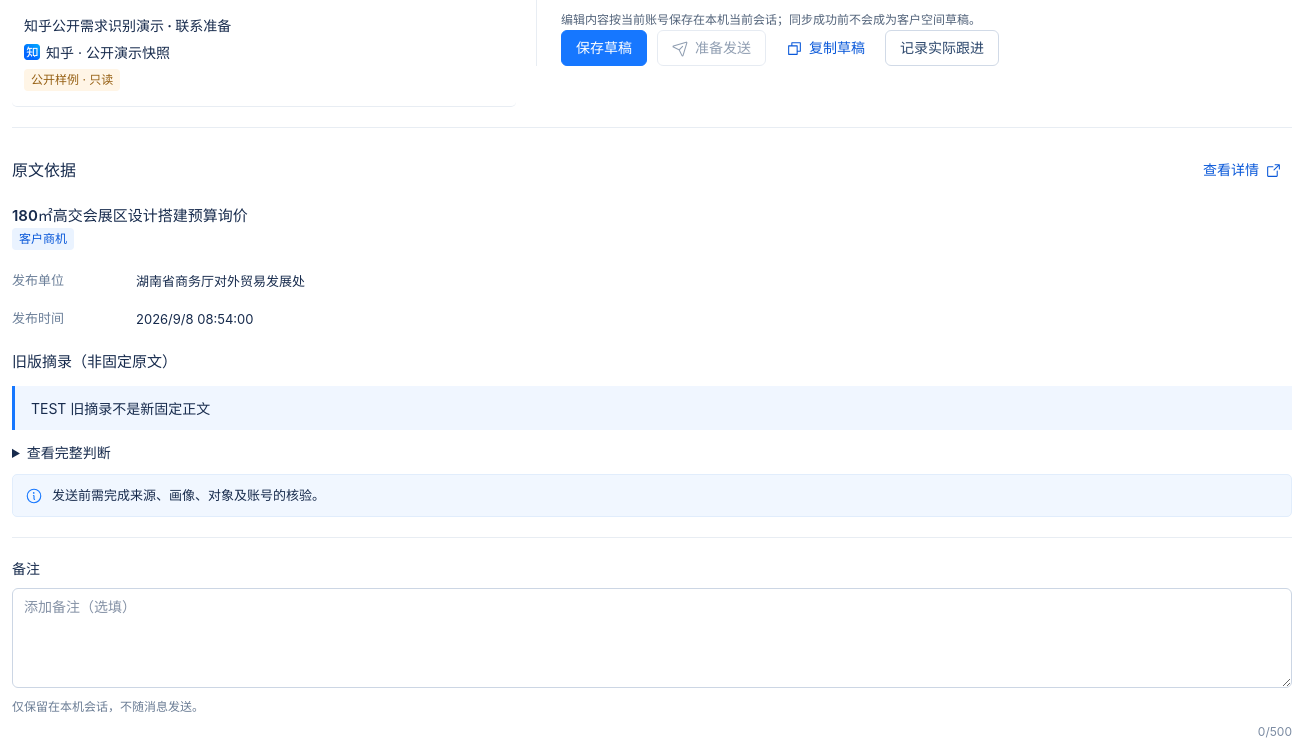
Test case: contact preparation and confirmation › labels the legacy excerpt beside the fixed snapshot without changing sending authority
The width and height of the screenshot is (1304, 742).
(page scrolled)
Expected: the text "TEST 旧摘录不是新固定正文" is shown, [12, 386, 1292, 430]
Expected: the heading "旧版摘录（非固定原文）" is shown, [12, 352, 177, 371]
Click the heading "查看完整判断" at (69, 453), box [27, 444, 111, 461]
(page scrolled)
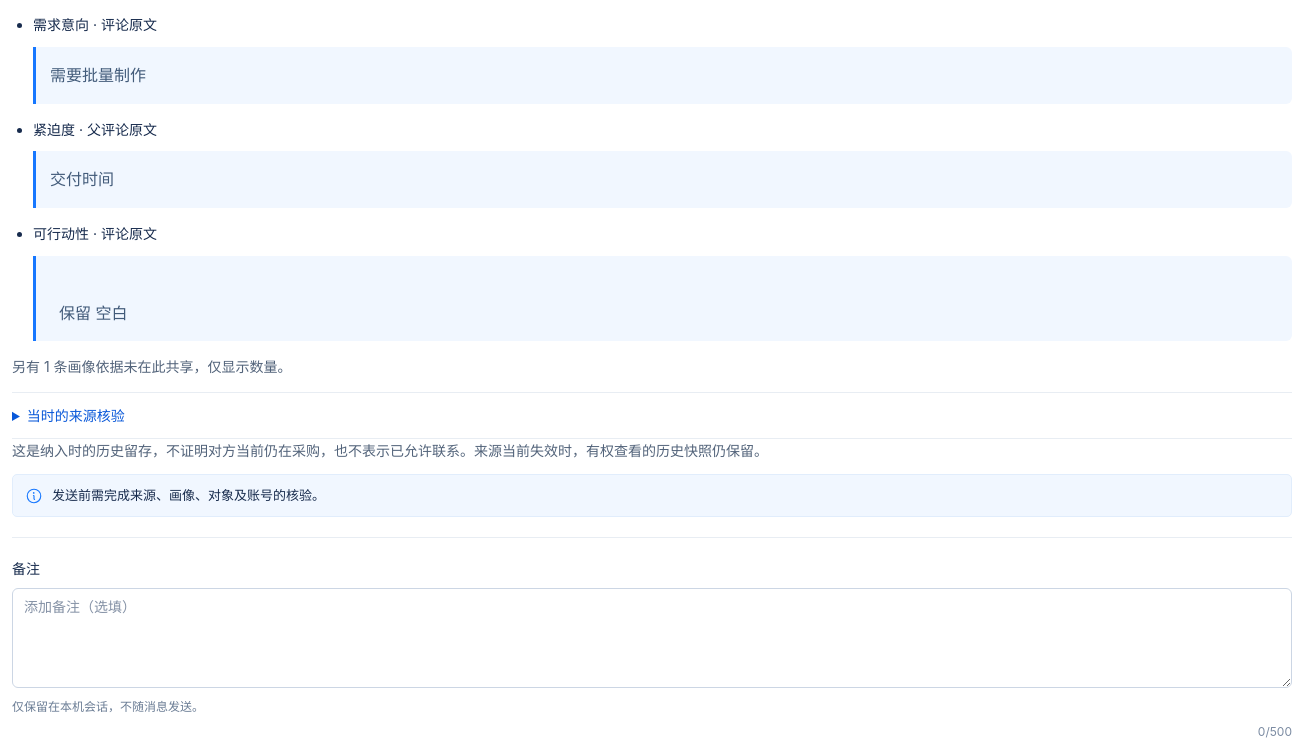
Now the text "这是纳入时的历史留存，不证明对方当前仍在采购，也不表示已允许联系。来源当前失效时，有权查看的历史快照仍保留。" is shown, box [12, 442, 768, 459]
